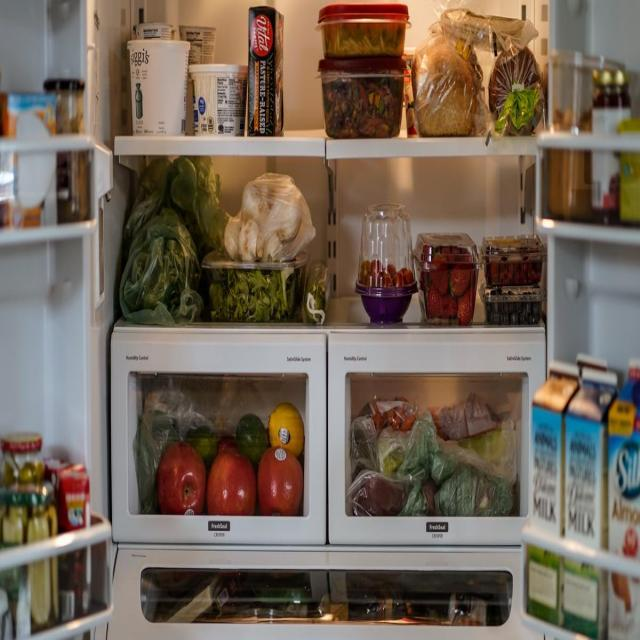apple: (258, 448, 303, 514), (159, 444, 201, 511), (210, 452, 254, 509)
bread: (416, 43, 484, 132), (491, 47, 542, 131)
lemon: (268, 406, 304, 455)
milk: (565, 370, 608, 548), (608, 376, 640, 556), (533, 365, 565, 535)
parsley: (232, 269, 286, 320)
strawberries: (426, 288, 455, 318), (451, 268, 471, 294), (430, 265, 448, 292), (456, 297, 473, 324)
yoghurt: (128, 38, 190, 134), (188, 62, 249, 136)
